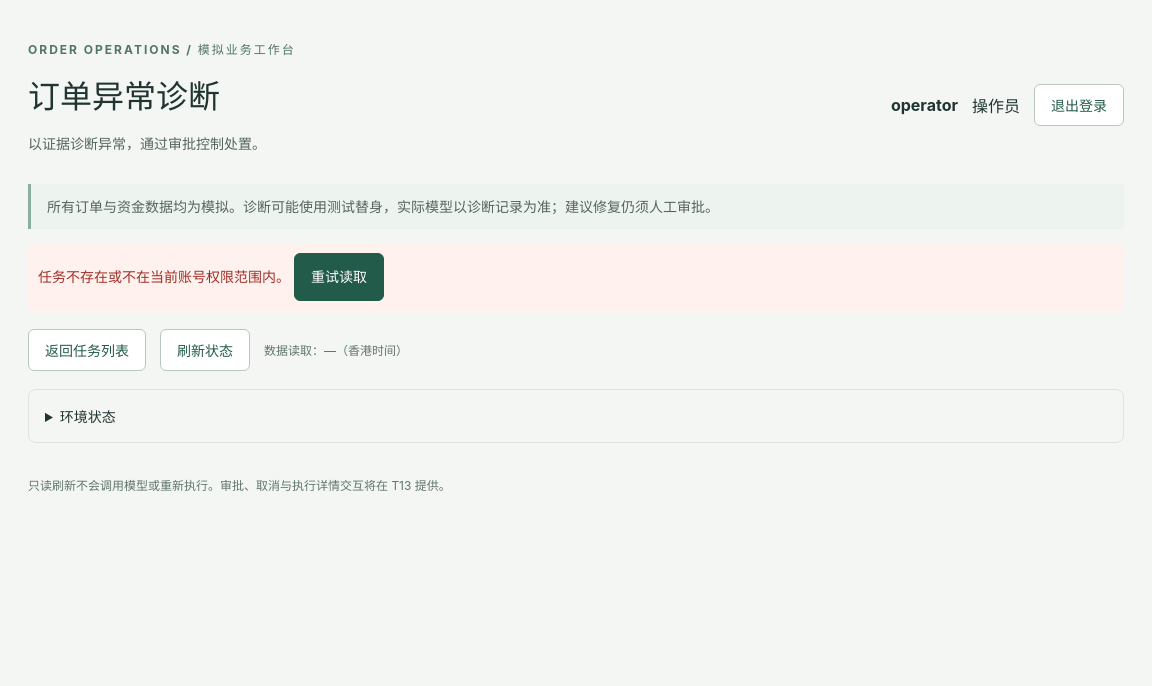
无权限详情不获取证据，会话失效后清除业务内容
Click the button "刷新状态". click: coordinates (205, 350)
box: [160,329,250,371]
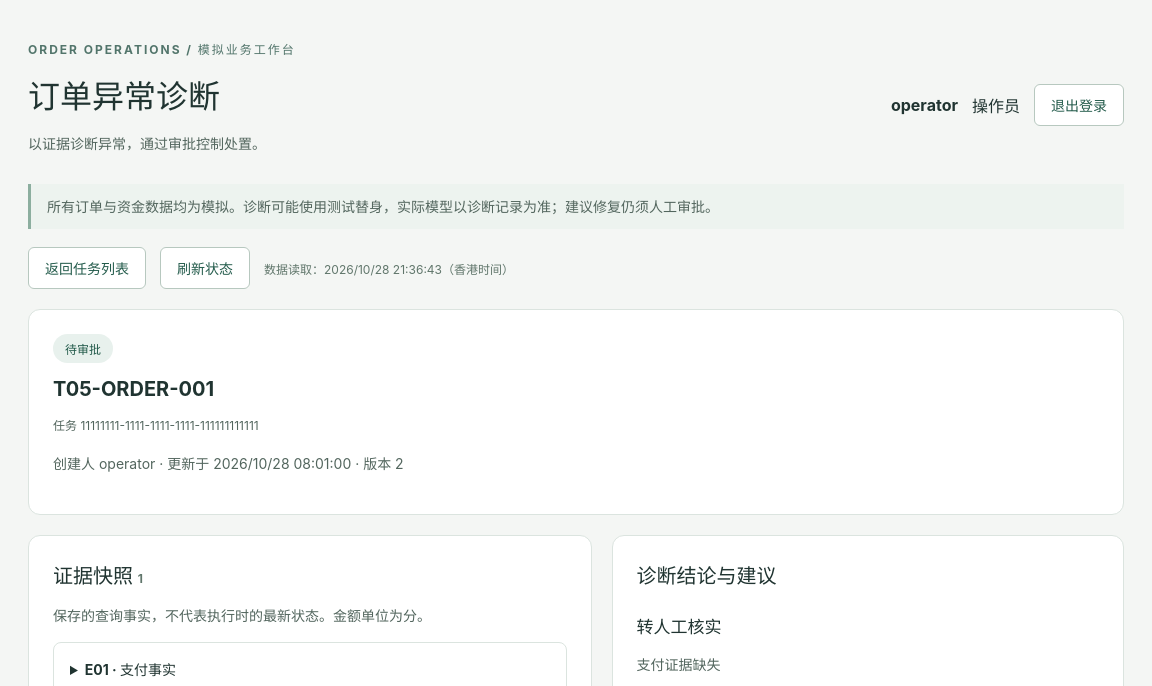
Click the button "刷新状态". click: coordinates (205, 268)
box: [160,247,250,289]
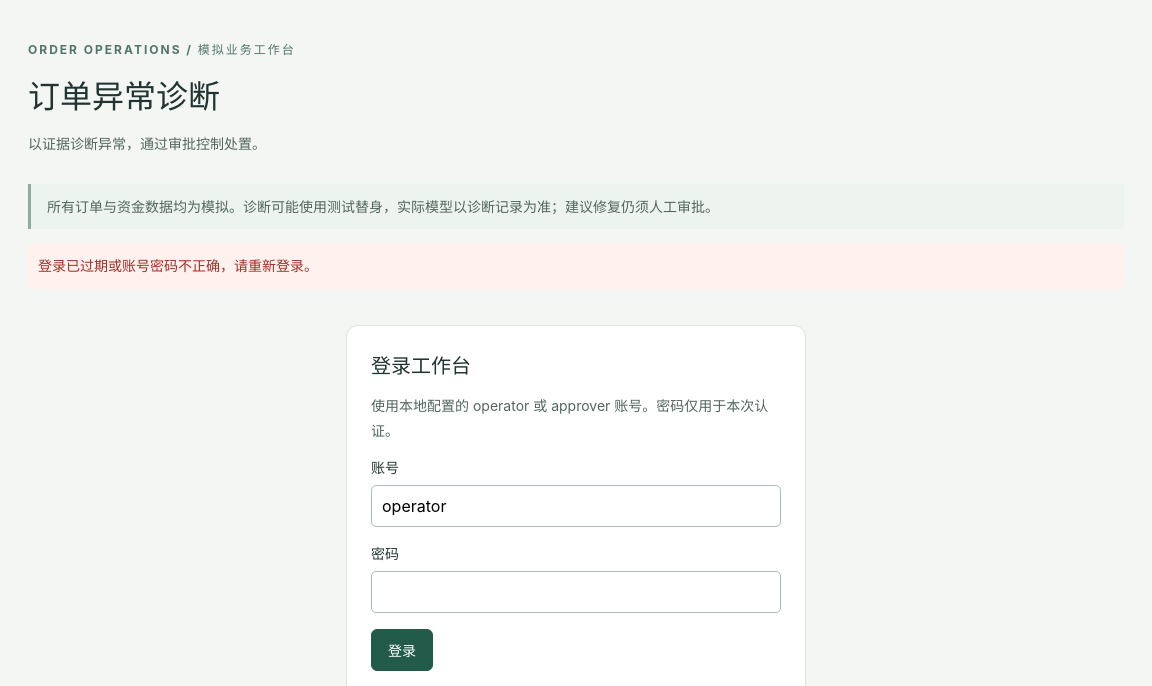
Now the text "登录已过期" is shown, box [38,257,318,274]
Now the text "T05-ORDER-001" is gone
